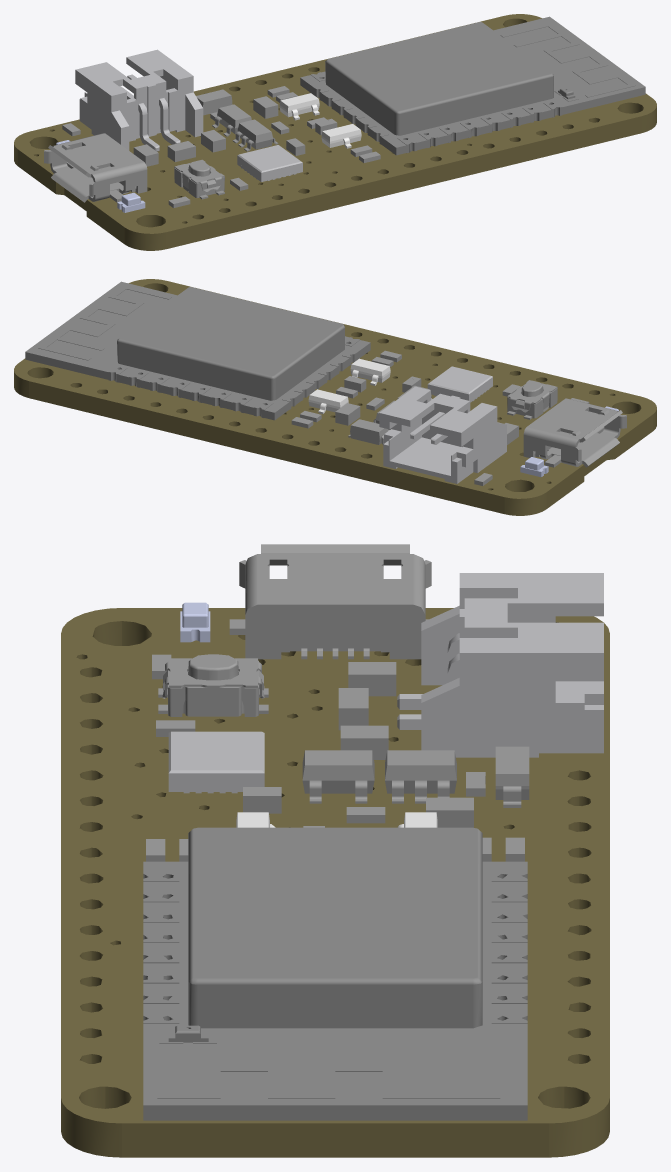
File: ada-2821.glb
The picture shows the model from 3 angles, top to bottom: view 1: azimuth 30°, elevation 25°; view 2: azimuth 150°, elevation 25°; view 3: azimuth 270°, elevation 25°; orthographic projection. The views are drawn at different scales.
Visible parts, largest first — view 1: 0.16666666666666666_0.16666666666666666_0.08333333333333333_, 0.25_0.25_0.25_0, 0.3333333333333333_0.3333333333333333_0.3333333333333333_0, 0.5833333333333334_0.5833333333333334_0.5833333333333334_0.8, 0.9166666666666666_0.9166666666666666_0.9166666666666666_0.8, 0.5833333333333334_0.6666666666666666_0.8333333333333334_0; view 2: 0.16666666666666666_0.16666666666666666_0.08333333333333333_, 0.25_0.25_0.25_0, 0.5833333333333334_0.5833333333333334_0.5833333333333334_0.8, 0.3333333333333333_0.3333333333333333_0.3333333333333333_0, 0.9166666666666666_0.9166666666666666_0.9166666666666666_0.8, 0.5833333333333334_0.6666666666666666_0.8333333333333334_0; view 3: 0.16666666666666666_0.16666666666666666_0.08333333333333333_, 0.25_0.25_0.25_0, 0.3333333333333333_0.3333333333333333_0.3333333333333333_0, 0.5833333333333334_0.5833333333333334_0.5833333333333334_0.8, 0.5833333333333334_0.6666666666666666_0.8333333333333334_0, 0.9166666666666666_0.9166666666666666_0.9166666666666666_0.8.
Boxes of the visible parts, x1=… form: 0.16666666666666666_0.16666666666666666_0.08333333333333333_: x1=14, y1=14, x2=656, y2=250; 0.25_0.25_0.25_0: x1=300, y1=16, x2=645, y2=155; 0.3333333333333333_0.3333333333333333_0.3333333333333333_0: x1=44, y1=86, x2=380, y2=208; 0.5833333333333334_0.5833333333333334_0.5833333333333334_0.8: x1=75, y1=49, x2=302, y2=181; 0.9166666666666666_0.9166666666666666_0.9166666666666666_0.8: x1=279, y1=93, x2=361, y2=148; 0.5833333333333334_0.6666666666666666_0.8333333333333334_0: x1=56, y1=140, x2=145, y2=212; 0.16666666666666666_0.16666666666666666_0.08333333333333333_: x1=14, y1=279, x2=656, y2=515; 0.25_0.25_0.25_0: x1=25, y1=281, x2=370, y2=420; 0.5833333333333334_0.5833333333333334_0.5833333333333334_0.8: x1=379, y1=366, x2=506, y2=483; 0.3333333333333333_0.3333333333333333_0.3333333333333333_0: x1=291, y1=350, x2=626, y2=485; 0.9166666666666666_0.9166666666666666_0.9166666666666666_0.8: x1=308, y1=358, x2=390, y2=414; 0.5833333333333334_0.6666666666666666_0.8333333333333334_0: x1=520, y1=406, x2=618, y2=477; 0.16666666666666666_0.16666666666666666_0.08333333333333333_: x1=61, y1=608, x2=609, y2=1157; 0.25_0.25_0.25_0: x1=143, y1=827, x2=527, y2=1120; 0.3333333333333333_0.3333333333333333_0.3333333333333333_0: x1=146, y1=544, x2=529, y2=861; 0.5833333333333334_0.5833333333333334_0.5833333333333334_0.8: x1=168, y1=573, x2=603, y2=793; 0.5833333333333334_0.6666666666666666_0.8333333333333334_0: x1=180, y1=602, x2=210, y2=642; 0.9166666666666666_0.9166666666666666_0.9166666666666666_0.8: x1=236, y1=812, x2=437, y2=827.
Size of the model in its own units: 5.13 by 0.637 by 2.29.
